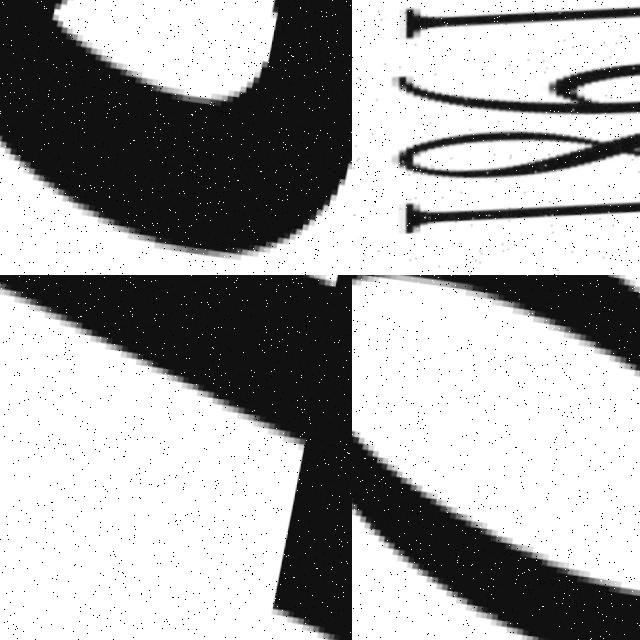0: (352, 275, 640, 640)
1: (383, 117, 640, 275), (381, 0, 640, 93), (378, 193, 640, 275)
2: (375, 0, 640, 48)
8: (384, 53, 640, 241)
9: (383, 0, 640, 180)
Q: (0, 0, 352, 275)
T: (0, 275, 352, 640)
